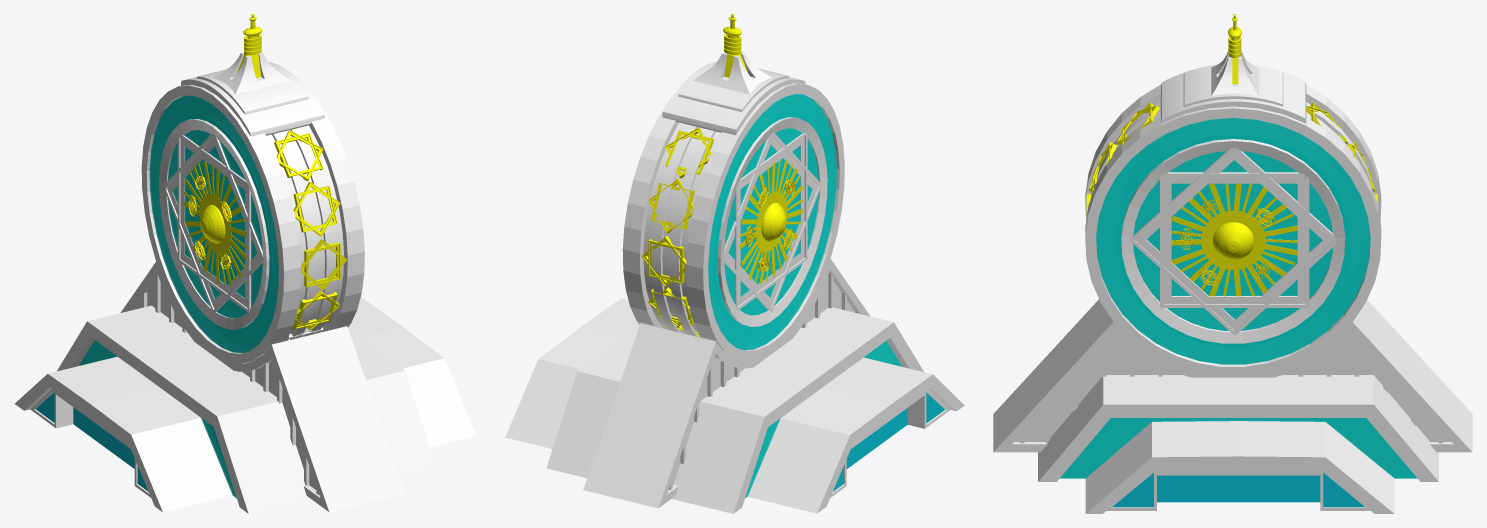
File: alem binasy.FBX
3 views of the same model, side by side, from view 1: azimuth 30°, elevation 25°; view 2: azimuth 150°, elevation 25°; view 3: azimuth 270°, elevation 25° (orthographic). The views are drawn at different scales.
Visible parts, largest first — view 1: OBYEKT294, OBYEKT303, OBYEKT304, OBYEKT306, OBYEKT297, OBYEKT311, OBYEKT298, Rectangle003, OBYEKT308, OBYEKT295, OBYEKT317, OBYEKT307 (+5 smaller); view 2: OBYEKT294, OBYEKT303, OBYEKT304, OBYEKT306, OBYEKT297, OBYEKT311, OBYEKT298, OBYEKT308, Rectangle003, OBYEKT295, OBYEKT317, OBYEKT307 (+4 smaller); view 3: OBYEKT294, OBYEKT303, OBYEKT308, OBYEKT311, OBYEKT300, OBYEKT302, Rectangle002, OBYEKT301, OBYEKT310, OBYEKT309, OBYEKT317.
Boxes of the visible parts, <box> form: OBYEKT294: <box>141,62,364,363</box>; OBYEKT303: <box>120,261,404,512</box>; OBYEKT304: <box>57,305,310,513</box>; OBYEKT306: <box>14,356,232,512</box>; OBYEKT297: <box>149,95,278,352</box>; OBYEKT311: <box>348,297,476,447</box>; OBYEKT298: <box>167,114,272,333</box>; Rectangle003: <box>164,133,263,313</box>; OBYEKT308: <box>348,329,436,476</box>; OBYEKT295: <box>183,161,247,286</box>; OBYEKT317: <box>212,52,291,94</box>; OBYEKT307: <box>36,392,148,491</box>; OBYEKT294: <box>622,61,844,360</box>; OBYEKT303: <box>583,259,870,508</box>; OBYEKT304: <box>672,307,923,513</box>; OBYEKT306: <box>747,357,964,513</box>; OBYEKT297: <box>708,94,836,350</box>; OBYEKT311: <box>505,298,639,448</box>; OBYEKT298: <box>714,113,820,330</box>; OBYEKT308: <box>546,326,639,478</box>; Rectangle003: <box>723,132,821,311</box>; OBYEKT295: <box>739,160,803,283</box>; OBYEKT317: <box>693,52,771,94</box>; OBYEKT307: <box>833,392,944,491</box>; OBYEKT294: <box>1085,65,1381,376</box>; OBYEKT303: <box>993,299,1472,452</box>; OBYEKT308: <box>1038,375,1438,481</box>; OBYEKT311: <box>1085,421,1394,513</box>; OBYEKT300: <box>1096,118,1370,364</box>; OBYEKT302: <box>1116,134,1350,346</box>; Rectangle002: <box>1130,148,1336,335</box>; OBYEKT301: <box>1171,183,1297,296</box>; OBYEKT310: <box>1112,473,1364,507</box>; OBYEKT309: <box>1060,418,1417,478</box>; OBYEKT317: <box>1211,50,1258,96</box>.
Bounding box in the file's own units: 488 × 604 × 621.
